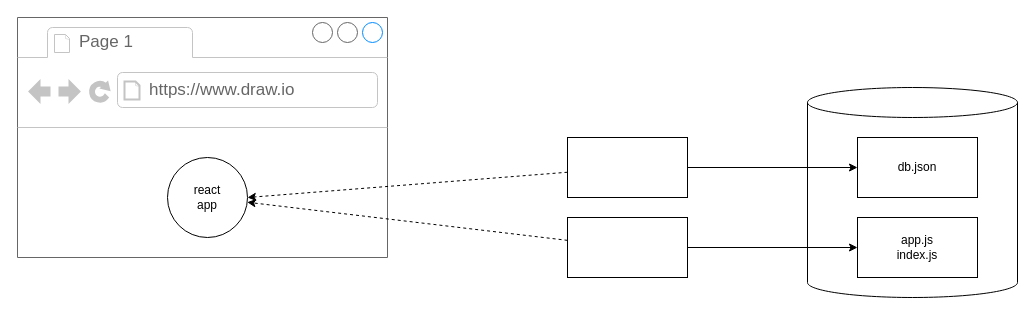
This 1035x315 diagram has some shape labels left out. The centre of each missing label's shape, as x and y in pixels:
JSON: (627,167)
react dev server: (627,247)
